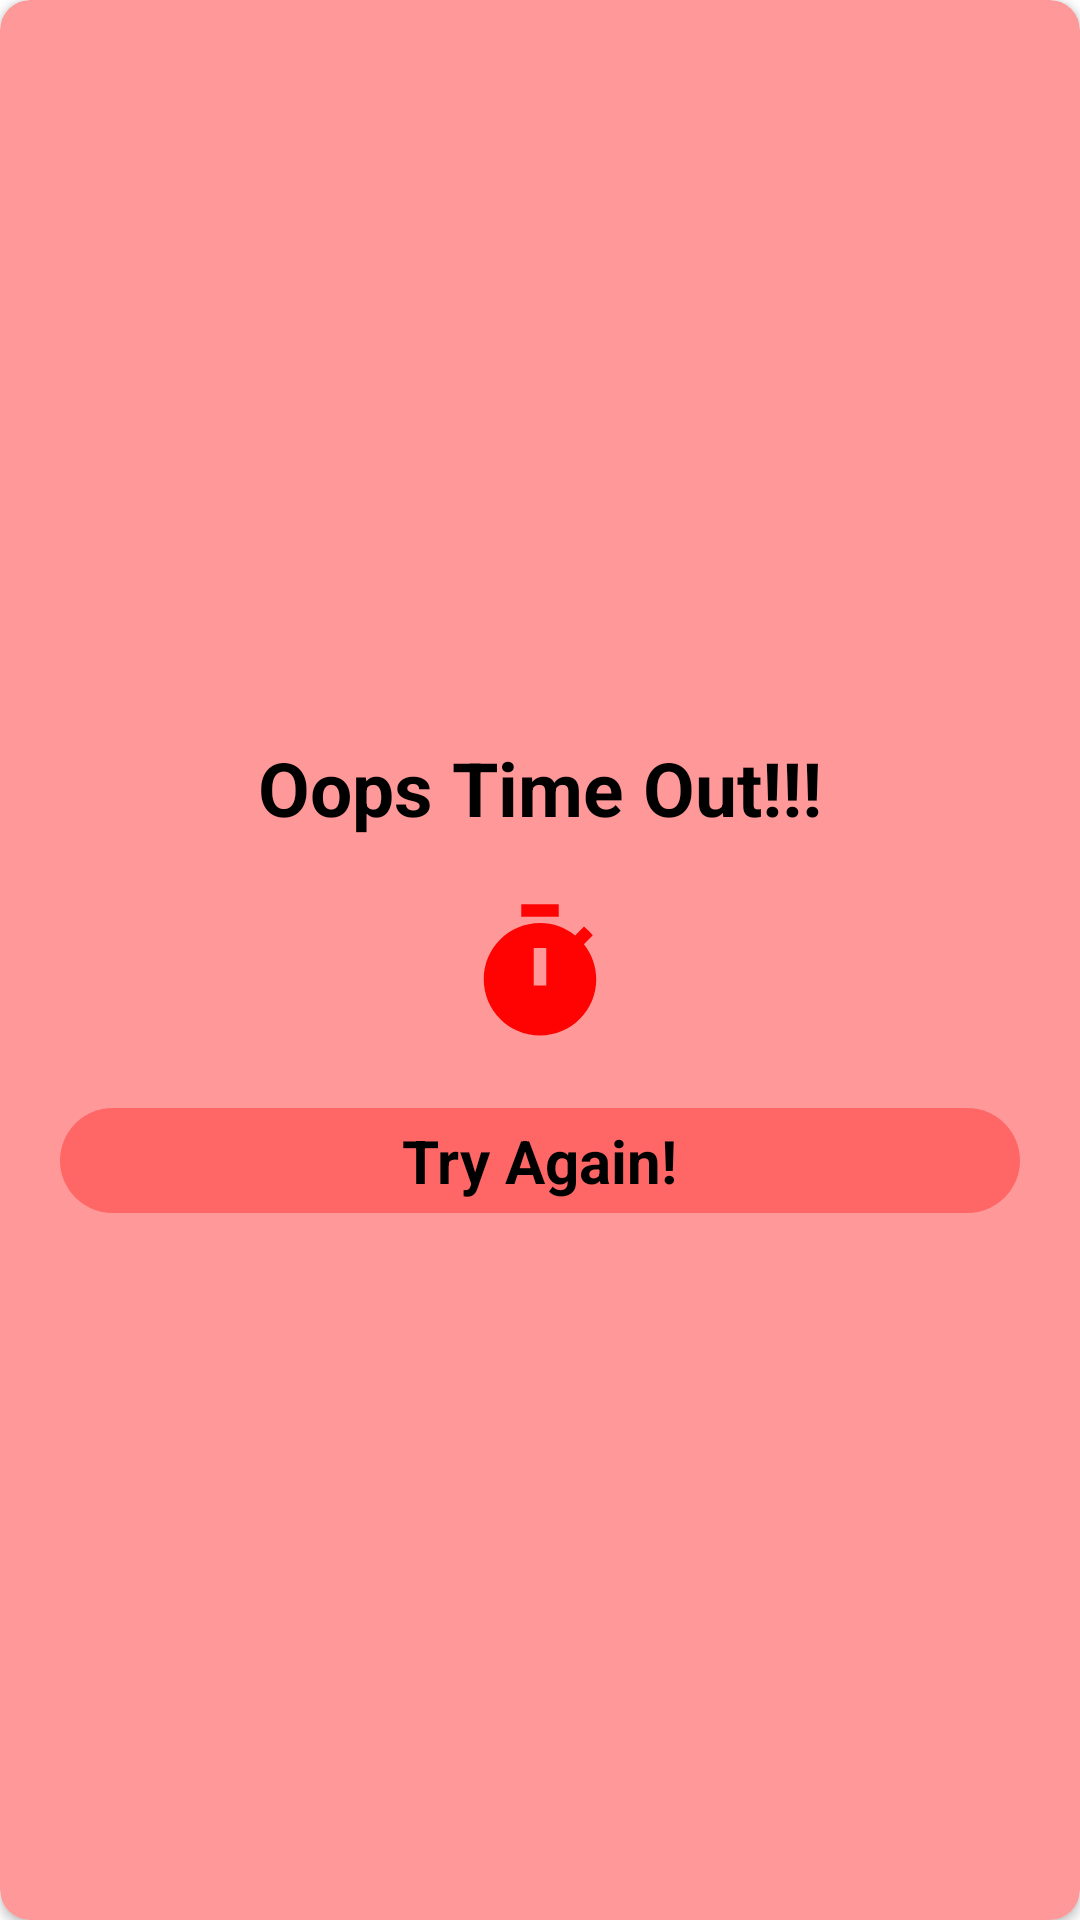

Named icons in this screenshot (1080w x 1920h) and their centers, (x,y):
timer: (540,970)
